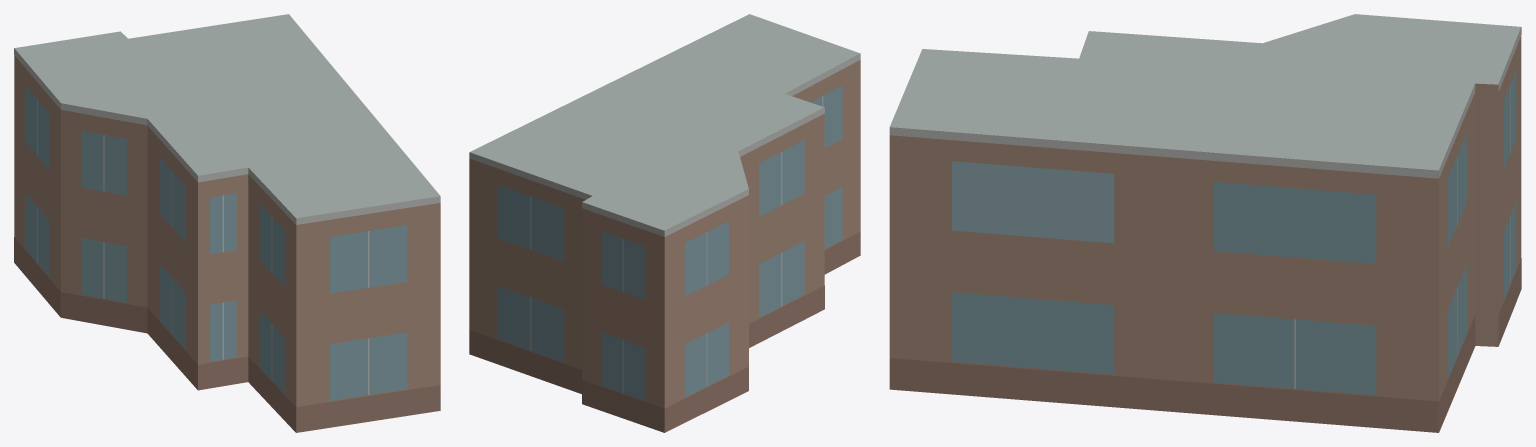
File: survey-upis-32495389.glb
The picture shows the model from 3 angles, left to right: view 1: azimuth 30°, elevation 25°; view 2: azimuth 150°, elevation 25°; view 3: azimuth 270°, elevation 25°; orthographic projection. The views are drawn at different scales.
Parts seen in each view (by area): view 1: survey-upis-32495389.tmp; view 2: survey-upis-32495389.tmp; view 3: survey-upis-32495389.tmp.
Boxes of the visible parts, x1,y1,x2,y2 form: survey-upis-32495389.tmp: (14,14,440,432); survey-upis-32495389.tmp: (469,14,860,432); survey-upis-32495389.tmp: (889,14,1521,432).
Size of the model in its own units: 10.12 by 7.9 by 17.26.
